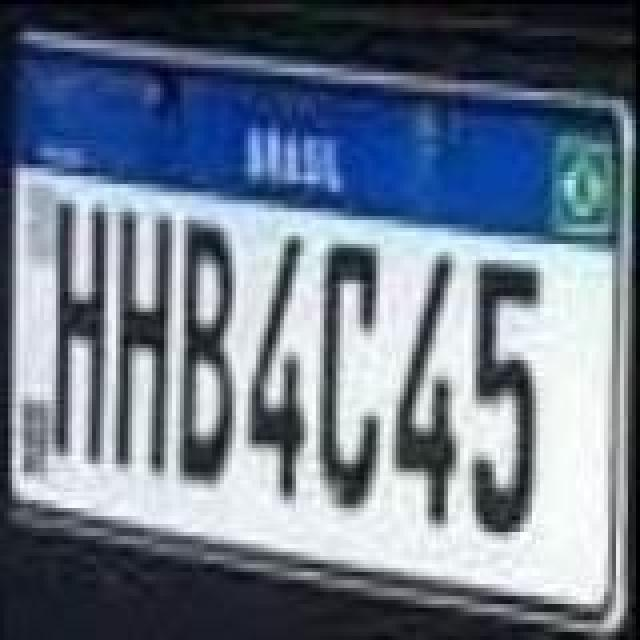4: (390, 244, 458, 532), (246, 230, 310, 510)
5: (470, 250, 554, 538)
B: (170, 216, 242, 488)
C: (316, 238, 384, 518)
H: (108, 208, 176, 488), (46, 192, 110, 464)
